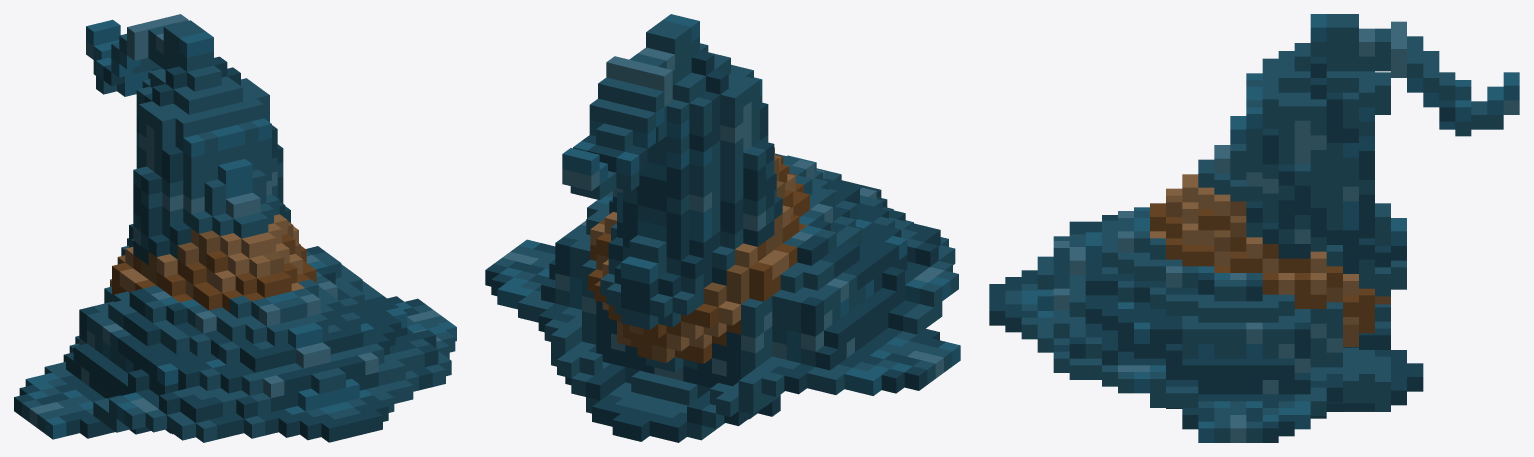
The model's file is tokei_male_hair.glb.
The picture shows the model from 3 angles, left to right: view 1: azimuth 30°, elevation 25°; view 2: azimuth 150°, elevation 25°; view 3: azimuth 270°, elevation 25°; orthographic projection. The views are drawn at different scales.
Visible parts, largest first — view 1: Model.001; view 2: Model.001; view 3: Model.001.
Boxes of the visible parts, x1,y1,x2,y2 form: Model.001: (14,14,456,442); Model.001: (485,14,960,442); Model.001: (989,14,1519,442).
Bounding box in the file's own units: 1.29 × 1.07 × 1.42.
Materials: 1 (1 with a texture image).
